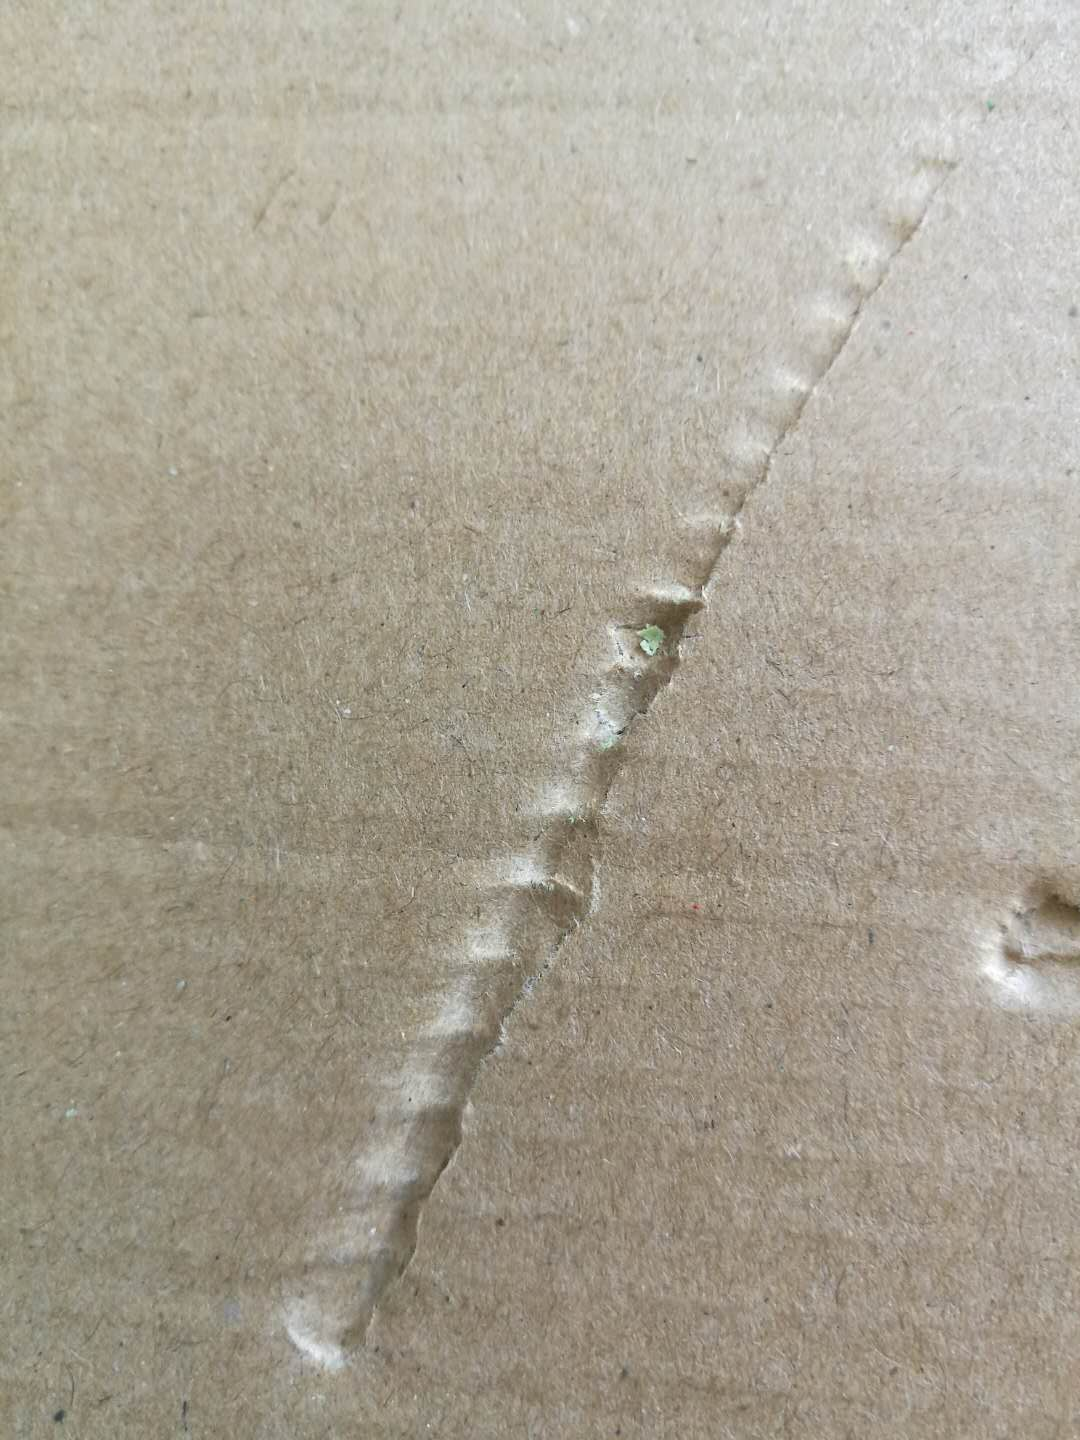defect: (186, 7, 1063, 1401), (957, 839, 1080, 1033)
